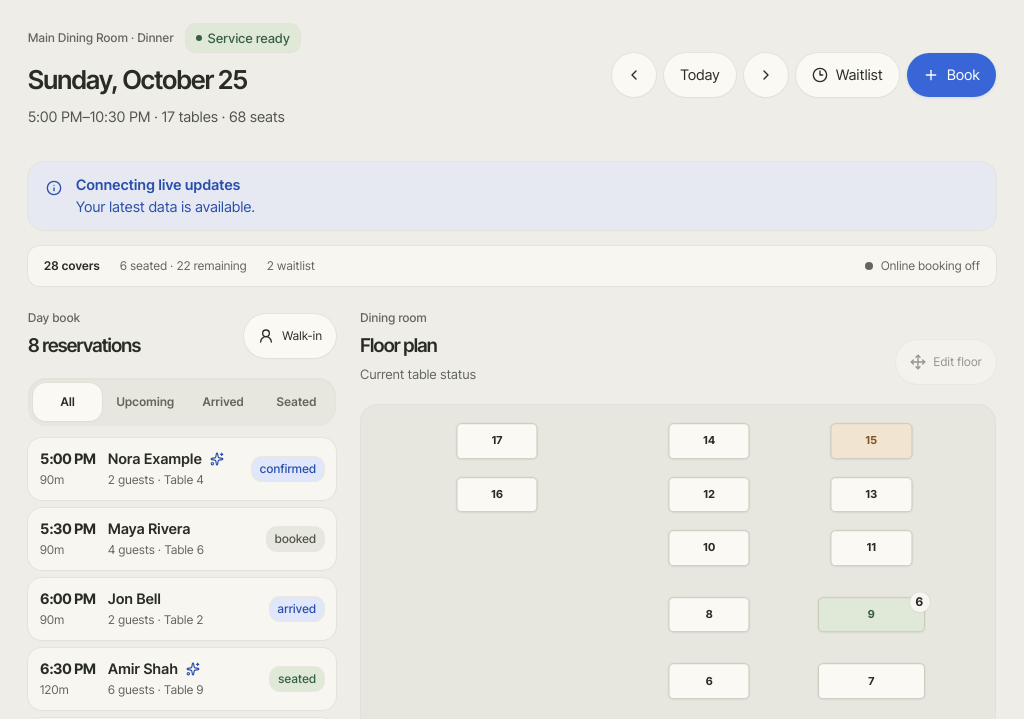
it: reservation host capability affordances › updates the selected reservation in place before background reconciliation
Click the button "5:00 PM 90m Nora Example 2 guests · Table 4 confirmed" at (182, 469), box [28, 438, 336, 500]
(page scrolled)
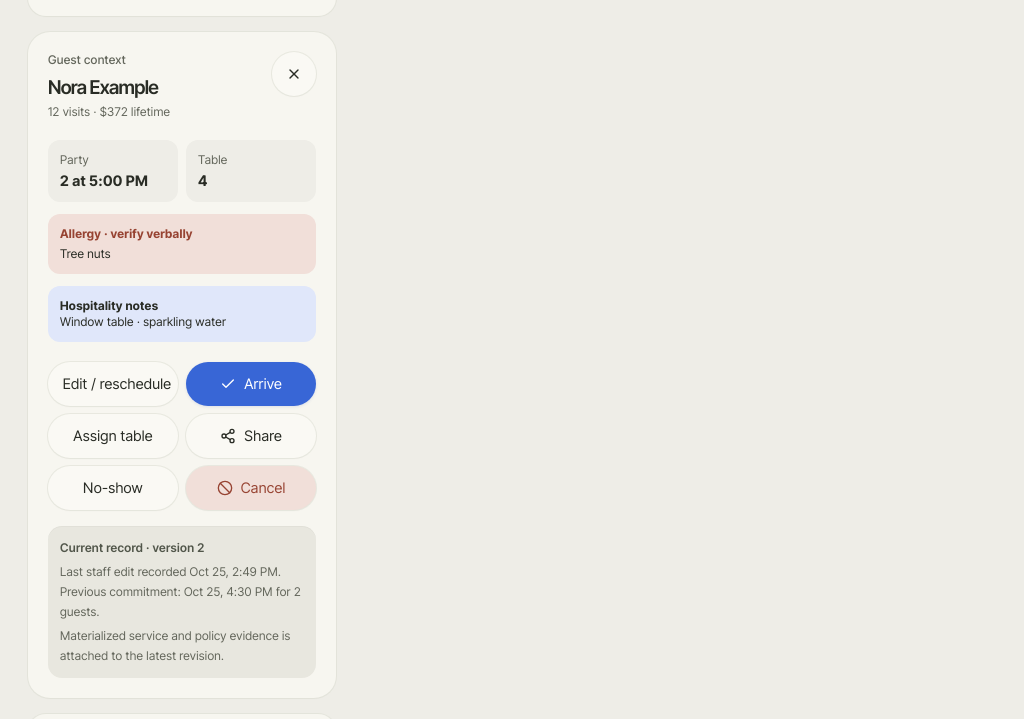
Click the button "Arrive" at (251, 384), box [186, 362, 316, 406]
(page scrolled)
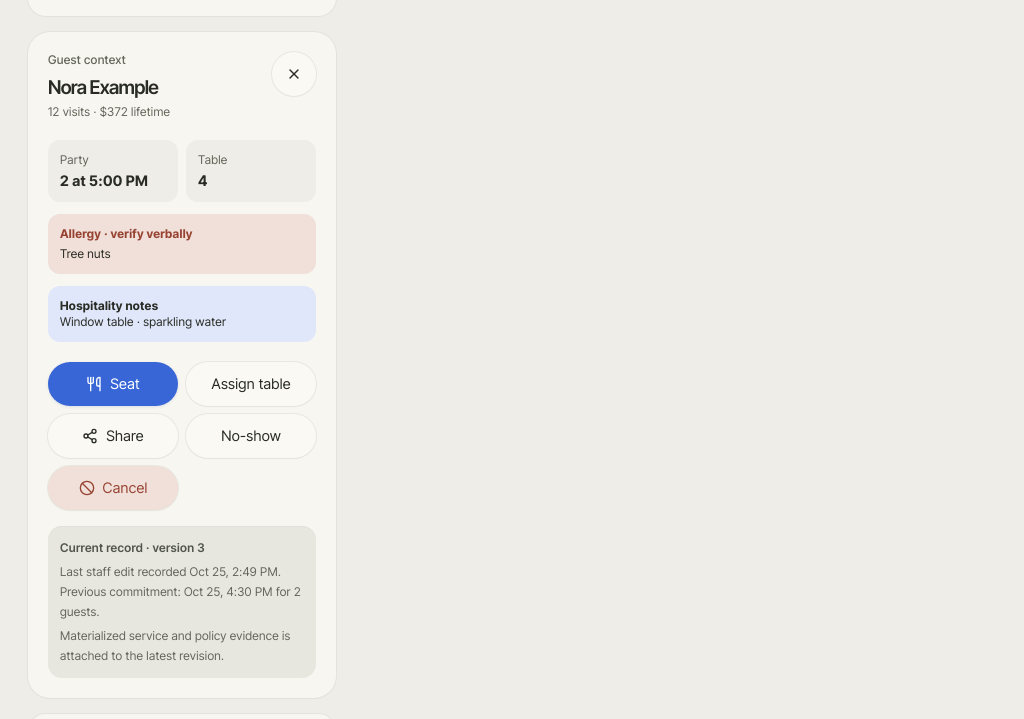
Expected: the heading "Nora Example" is shown, [48, 76, 170, 100]
Expected: the button "Seat" is shown, [48, 362, 178, 406]
